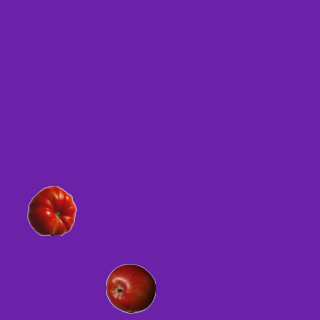Apple Braeburn: (105, 263, 155, 313)
Tomato 3: (26, 185, 76, 235)
